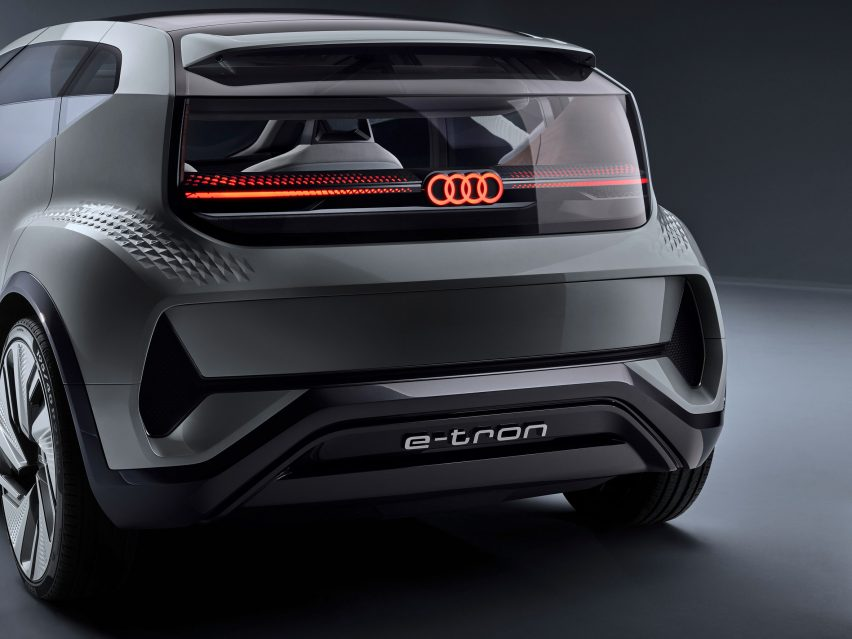audi: (422, 168, 506, 207)
